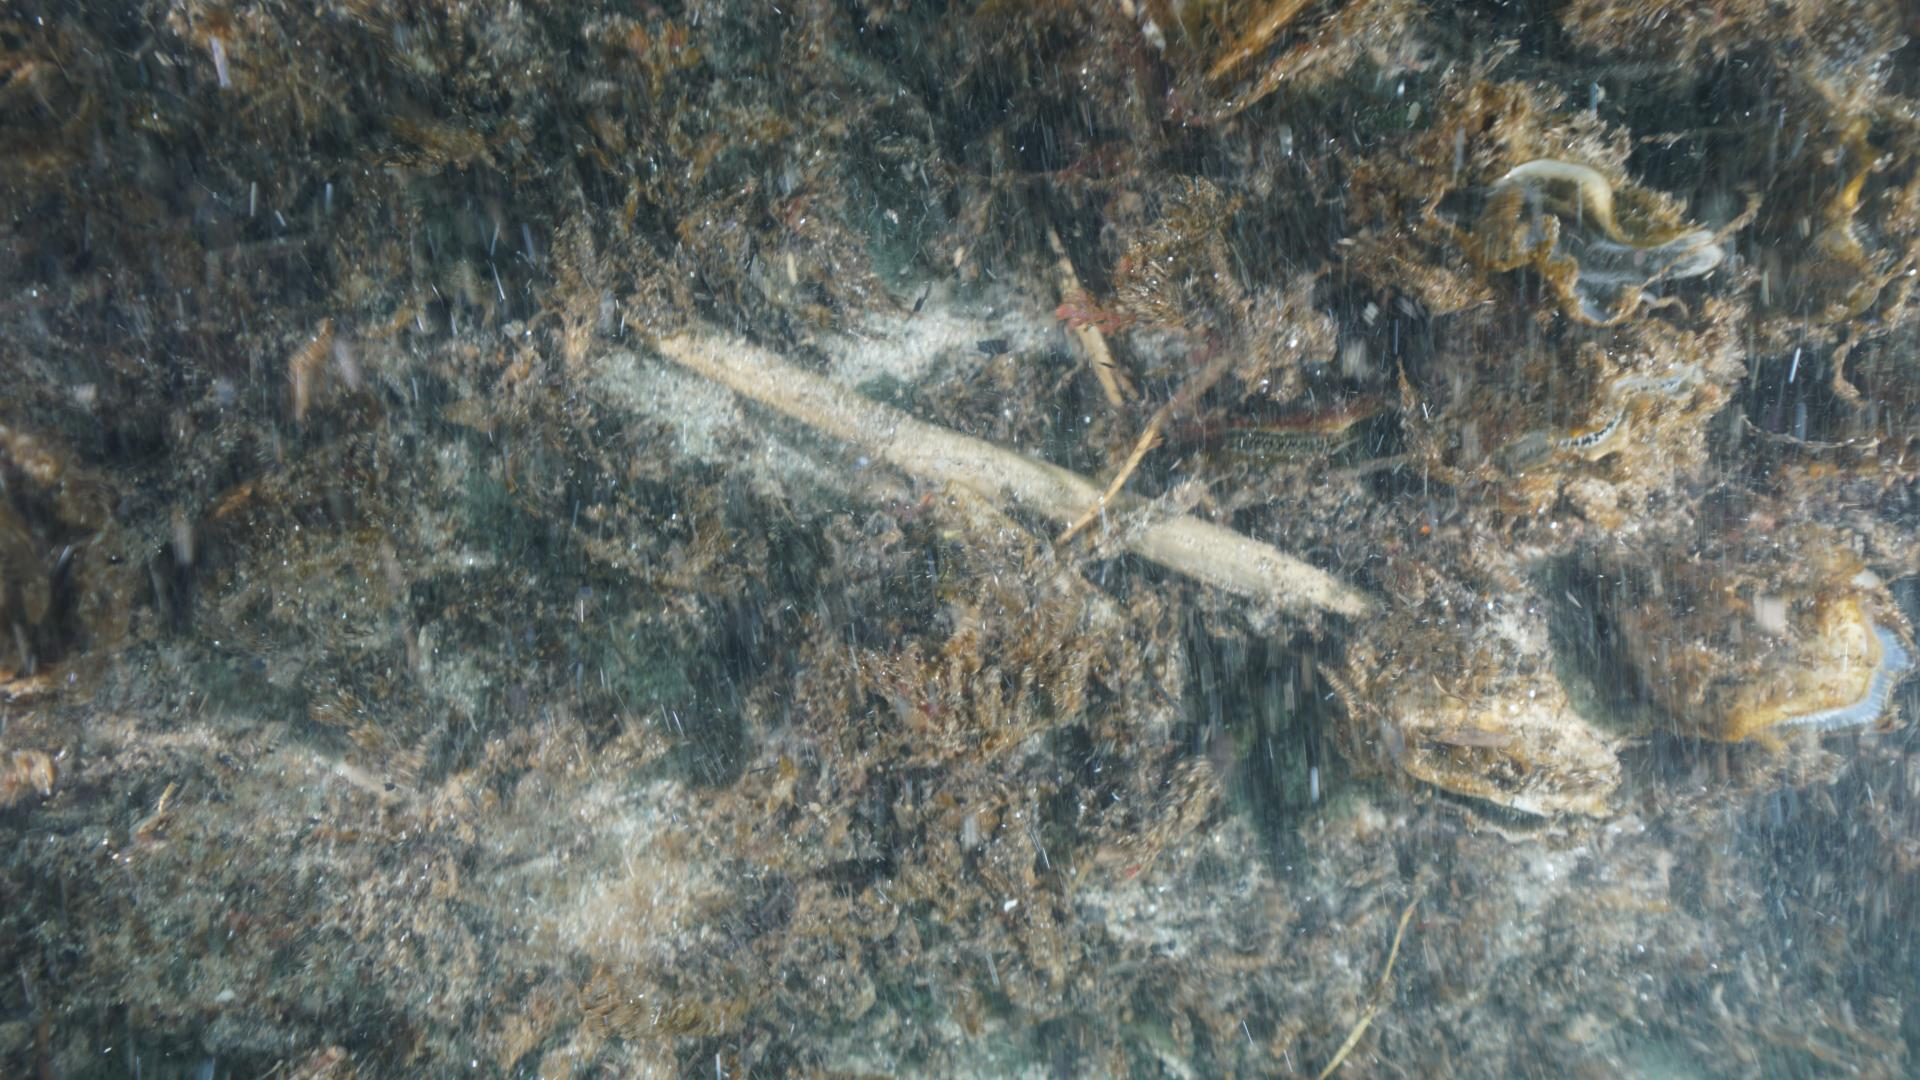wood: (622, 301, 1375, 621)
